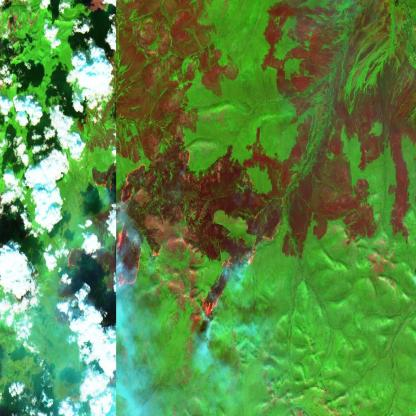fire: (184, 162, 281, 336), (112, 162, 166, 310)
